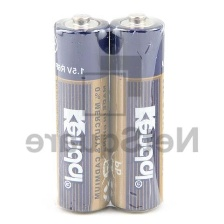battery: (106, 7, 167, 214), (52, 9, 111, 214)
